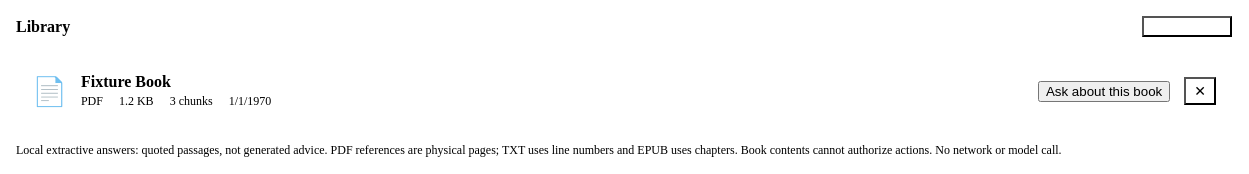
Test: shows extraction failures without hiding the previously imported book
expect the text "Fixture Book" is shown: met, box [81,73,171,90]
Click the button "+ Add Book" at x=1187, y=26, box [1142,16,1232,37]
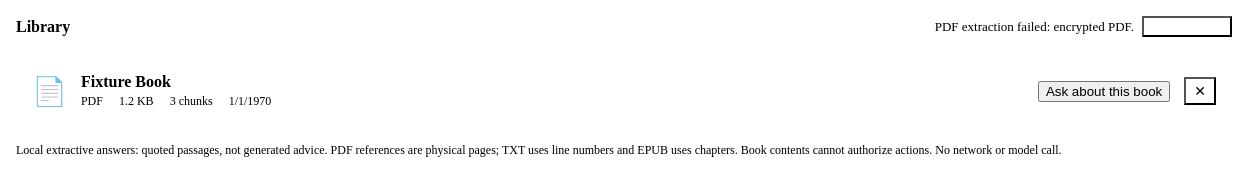
expect the text "Fixture Book" is shown: met, box [81,73,171,90]
expect the text "PDF extraction failed: encrypted PDF." is shown: met, box [935,18,1134,34]
